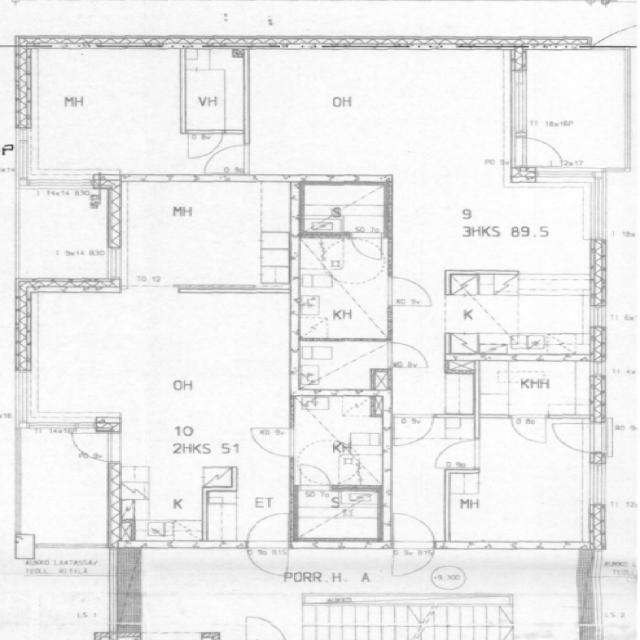door: (21, 287, 300, 429), (244, 46, 517, 182), (110, 424, 285, 548), (14, 432, 112, 554), (387, 509, 437, 581), (243, 511, 291, 582), (201, 142, 254, 181), (385, 274, 437, 311), (388, 412, 437, 450), (548, 422, 604, 453), (434, 438, 482, 472), (247, 425, 295, 458), (384, 339, 432, 371), (240, 612, 292, 640), (182, 130, 226, 161), (507, 414, 549, 446), (293, 460, 335, 490)
window: (502, 61, 533, 137), (582, 457, 607, 532)
zone: (25, 290, 297, 428), (248, 46, 517, 181), (428, 187, 596, 360), (20, 41, 186, 180), (105, 425, 285, 547), (111, 176, 293, 292), (446, 418, 594, 546), (292, 236, 390, 342), (18, 181, 113, 283), (290, 394, 385, 486), (472, 356, 599, 418), (180, 47, 249, 136), (294, 341, 389, 397), (292, 488, 384, 541), (299, 182, 389, 236), (507, 132, 575, 173), (68, 430, 120, 462)
